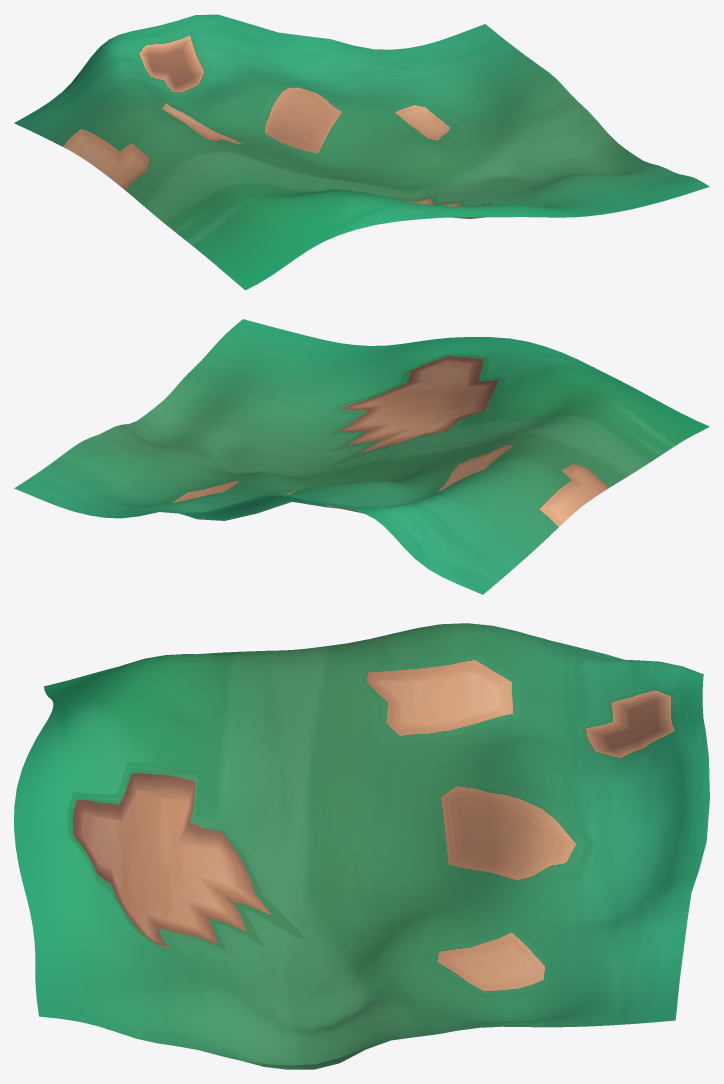
File: mountainBG.fbx
3 views of the same model, one above another, from view 1: azimuth 30°, elevation 25°; view 2: azimuth 150°, elevation 25°; view 3: azimuth 270°, elevation 25° (orthographic). The views are drawn at different scales.
Parts seen in each view (by area): view 1: pPlane1; view 2: pPlane1; view 3: pPlane1.
Part boxes in pixels (<box>): pPlane1: <box>14,14,709,290</box>; pPlane1: <box>14,319,709,594</box>; pPlane1: <box>14,623,709,1069</box>.
Bounding box in the file's own units: 222981 × 50086 × 195346.
